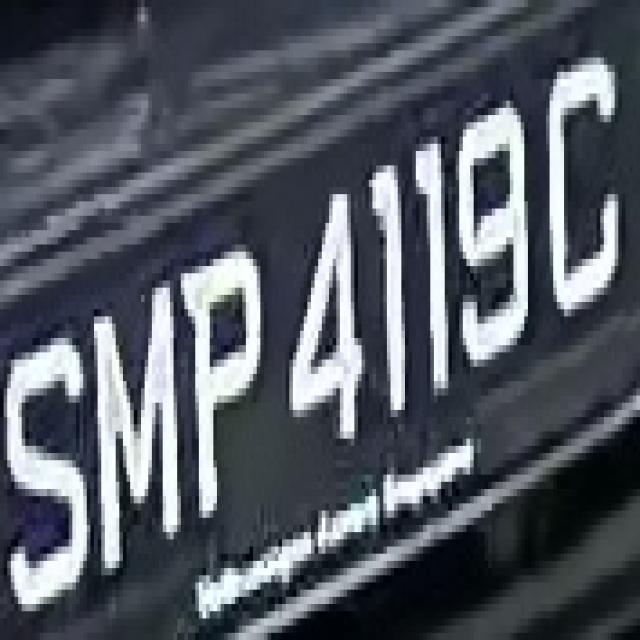1: (416, 101, 456, 424), (376, 137, 412, 417)
4: (278, 194, 379, 475)
9: (445, 94, 539, 402)
C: (539, 36, 629, 338)
M: (94, 266, 181, 590)
P: (181, 230, 271, 539)
S: (3, 288, 86, 626)
